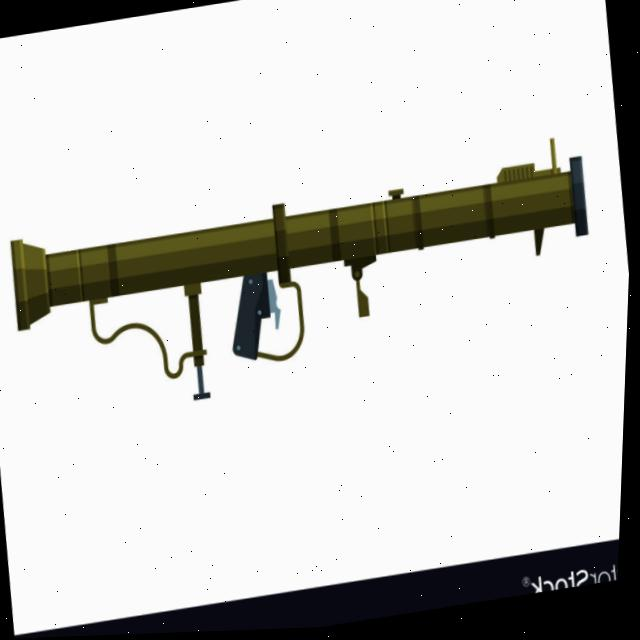rocket: (0, 130, 609, 434)
